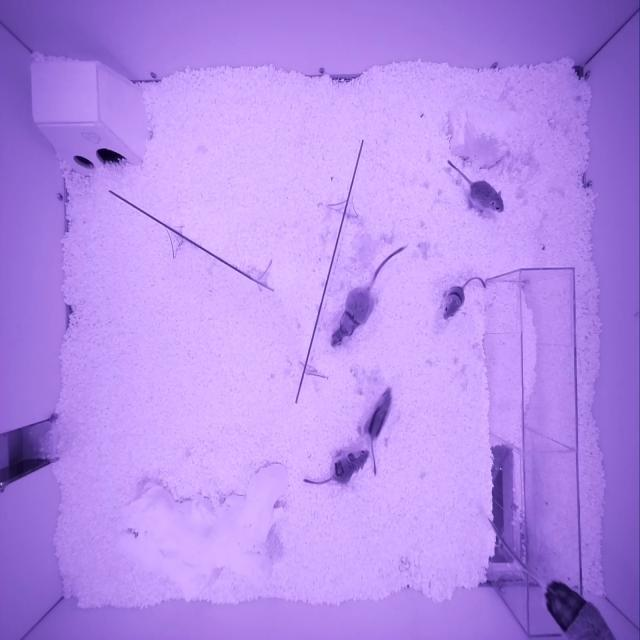adult_back: (543, 581, 616, 640)
adult_front: (330, 287, 374, 348)
pup_fluffy: (469, 181, 504, 213)
pup_h_stripe: (442, 286, 465, 319)
pup_spotted: (330, 450, 369, 484)
pup_v_stripe: (358, 387, 392, 440)
